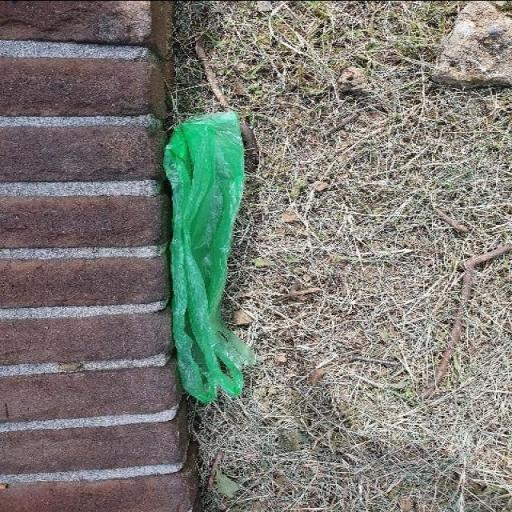plastic-bag: (160, 108, 255, 406)
